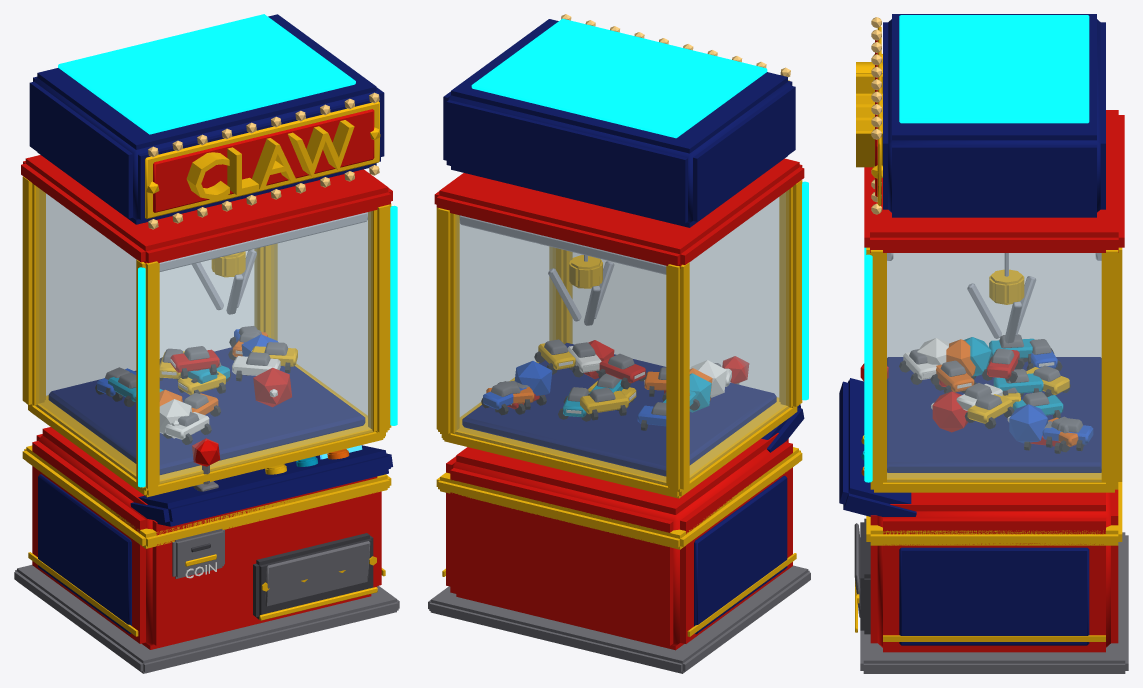
File: claw_machine.fbx
The picture shows the model from 3 angles, left to right: view 1: azimuth 30°, elevation 25°; view 2: azimuth 150°, elevation 25°; view 3: azimuth 270°, elevation 25°; orthographic projection. The views are drawn at different scales.
Parts seen in each view (by area): view 1: claw_machine, claw_machine_glass; view 2: claw_machine, claw_machine_glass; view 3: claw_machine, claw_machine_glass.
Boxes of the visible parts, x1,y1,x2,y2 form: claw_machine: (14,14,399,673); claw_machine_glass: (36,187,372,483); claw_machine: (428,14,810,673); claw_machine_glass: (454,190,788,484); claw_machine: (839,14,1128,673); claw_machine_glass: (887,253,1101,481).
Size of the model in its own units: 7.5 by 14.51 by 7.01.
